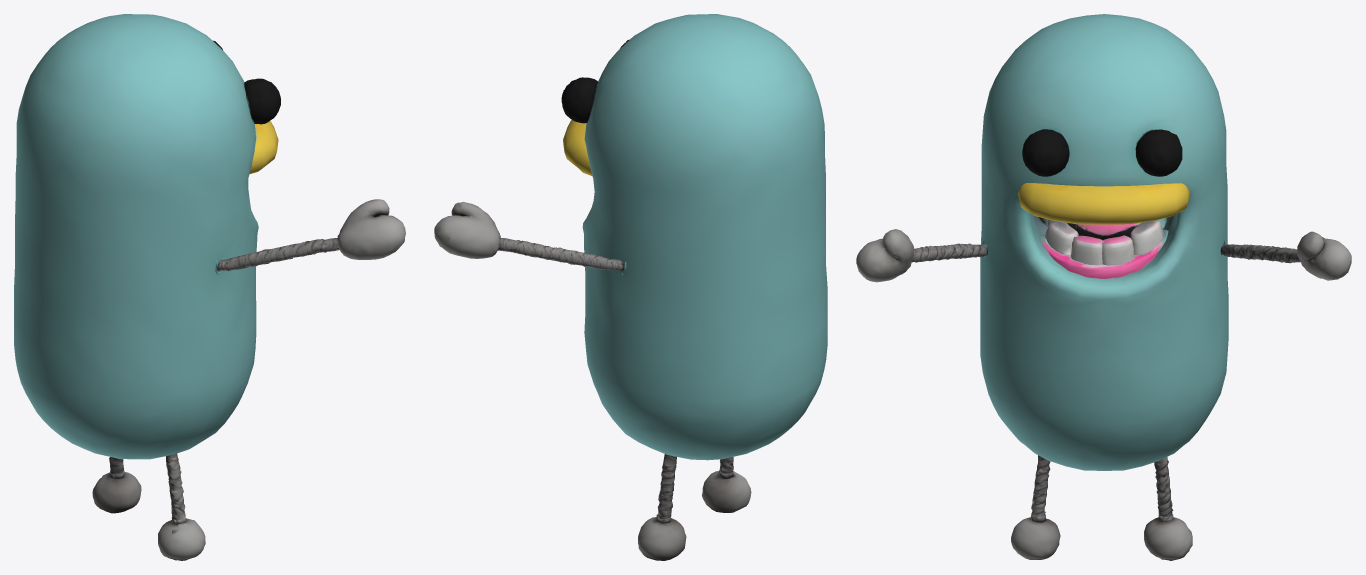
The picture shows the model from 3 angles, left to right: view 1: azimuth 30°, elevation 25°; view 2: azimuth 150°, elevation 25°; view 3: azimuth 270°, elevation 25°; orthographic projection. The views are drawn at different scales.
Visible parts, largest first — view 1: tripo_node_2e73fd6c-a13e-4044-b868-38427356a801; view 2: tripo_node_2e73fd6c-a13e-4044-b868-38427356a801; view 3: tripo_node_2e73fd6c-a13e-4044-b868-38427356a801.
Boxes of the visible parts, <box> form: tripo_node_2e73fd6c-a13e-4044-b868-38427356a801: <box>14,14,405,560</box>; tripo_node_2e73fd6c-a13e-4044-b868-38427356a801: <box>434,14,827,560</box>; tripo_node_2e73fd6c-a13e-4044-b868-38427356a801: <box>856,14,1351,560</box>.
Bounding box in the file's own units: 0.5371 × 0.998 × 0.8574.
Materials: 1 (1 with a texture image).
